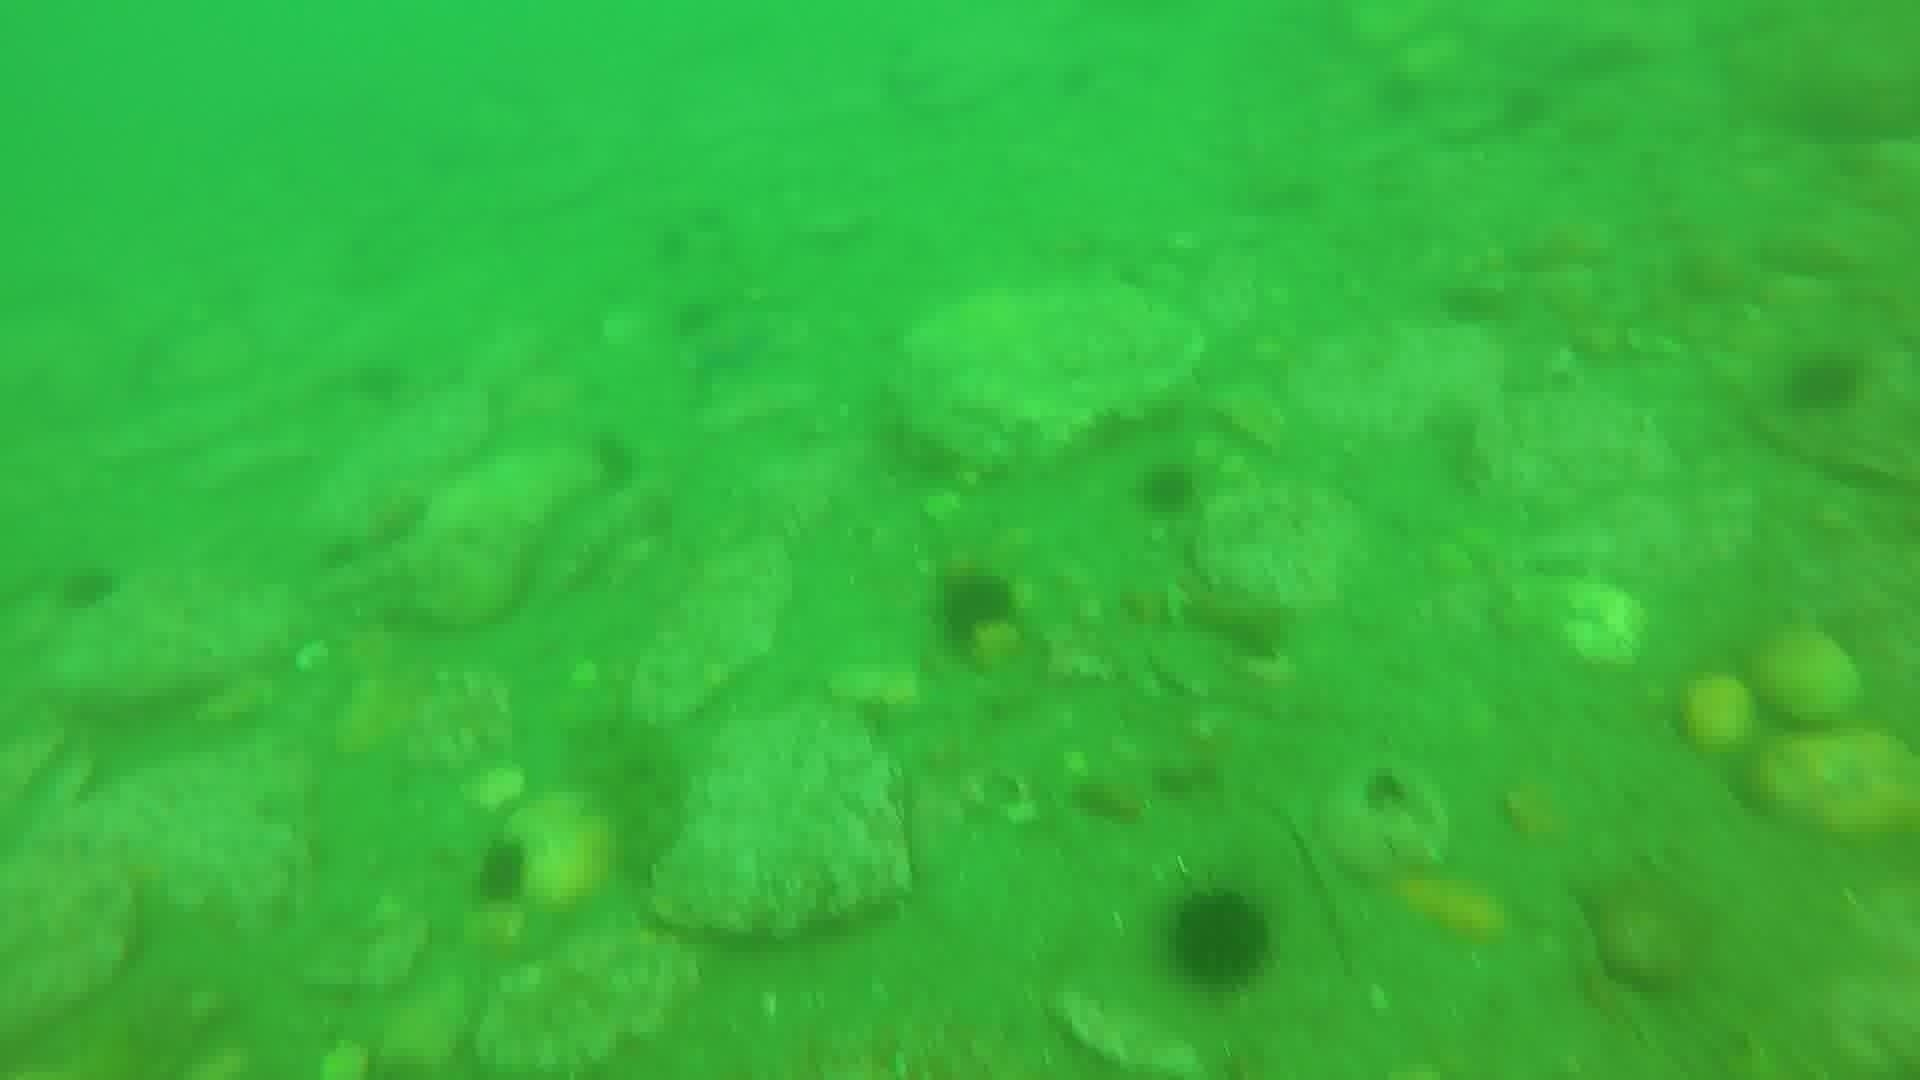echinus: (1162, 885, 1278, 996), (928, 566, 1021, 651), (1782, 349, 1869, 419), (467, 835, 535, 910), (1131, 458, 1204, 522), (53, 559, 123, 616)
holothurian: (568, 705, 696, 882)
starfish: (680, 306, 781, 385)
